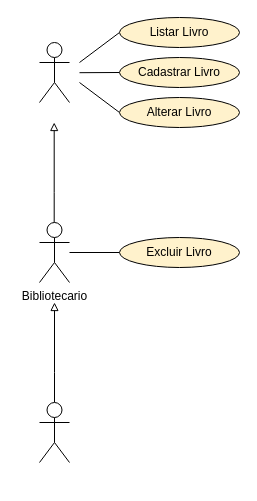
The diagram is 257 pixels wide and 501 high, and some of its shapes have lost their labels. The centre of each missing label's shape, as x and y in pixels:
"Administrador" goes at point 54,432.
"Funcionario" goes at point 54,72.
